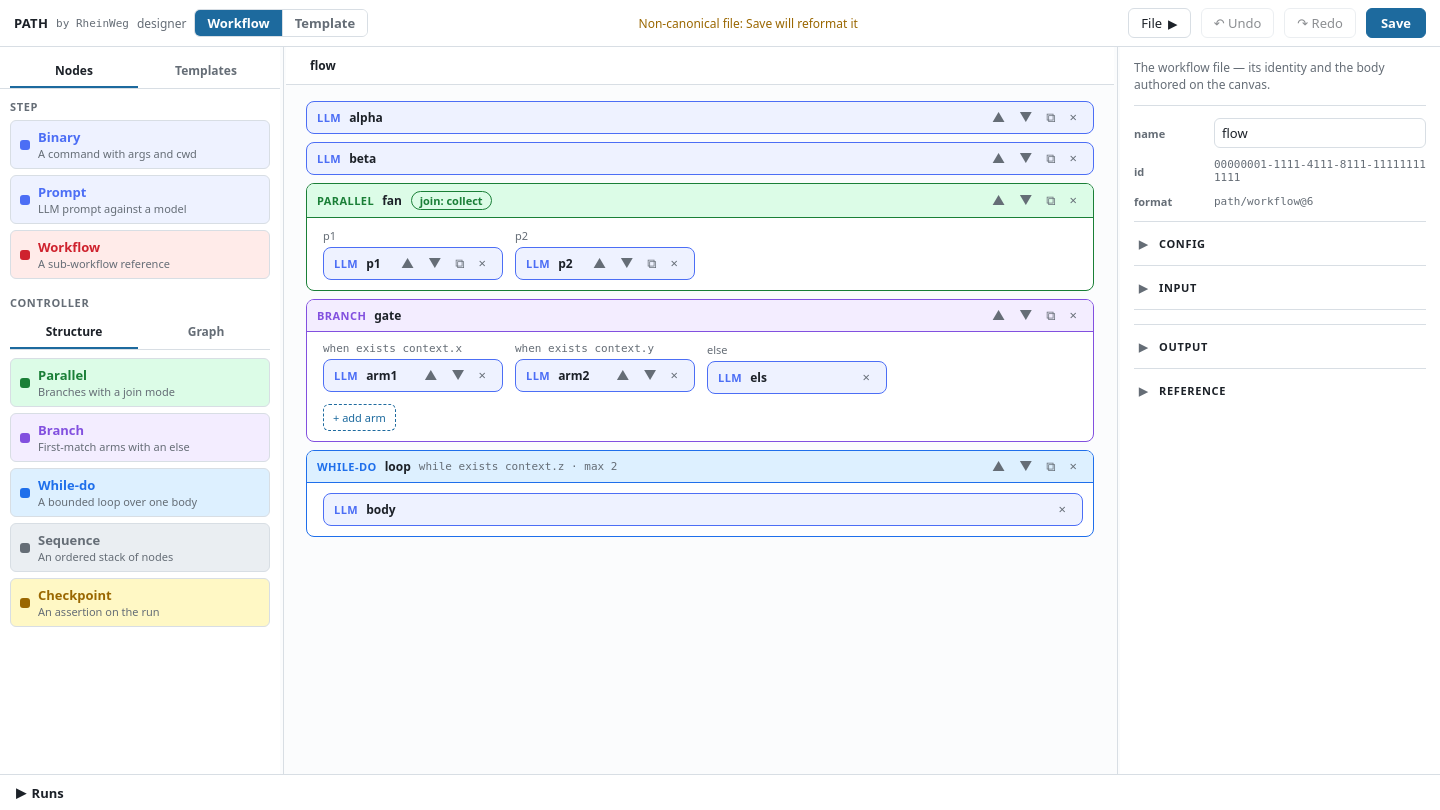
Test case: identity — a duplicate gets a fresh node › duplicates a top-level node in place
This screenshot has width=1440, height=810.
Expected: the text "alpha" is shown, [349,109,383,126]
Click the button named "Duplicate alpha". click: (1051, 118)
box: [1040,109,1062,126]
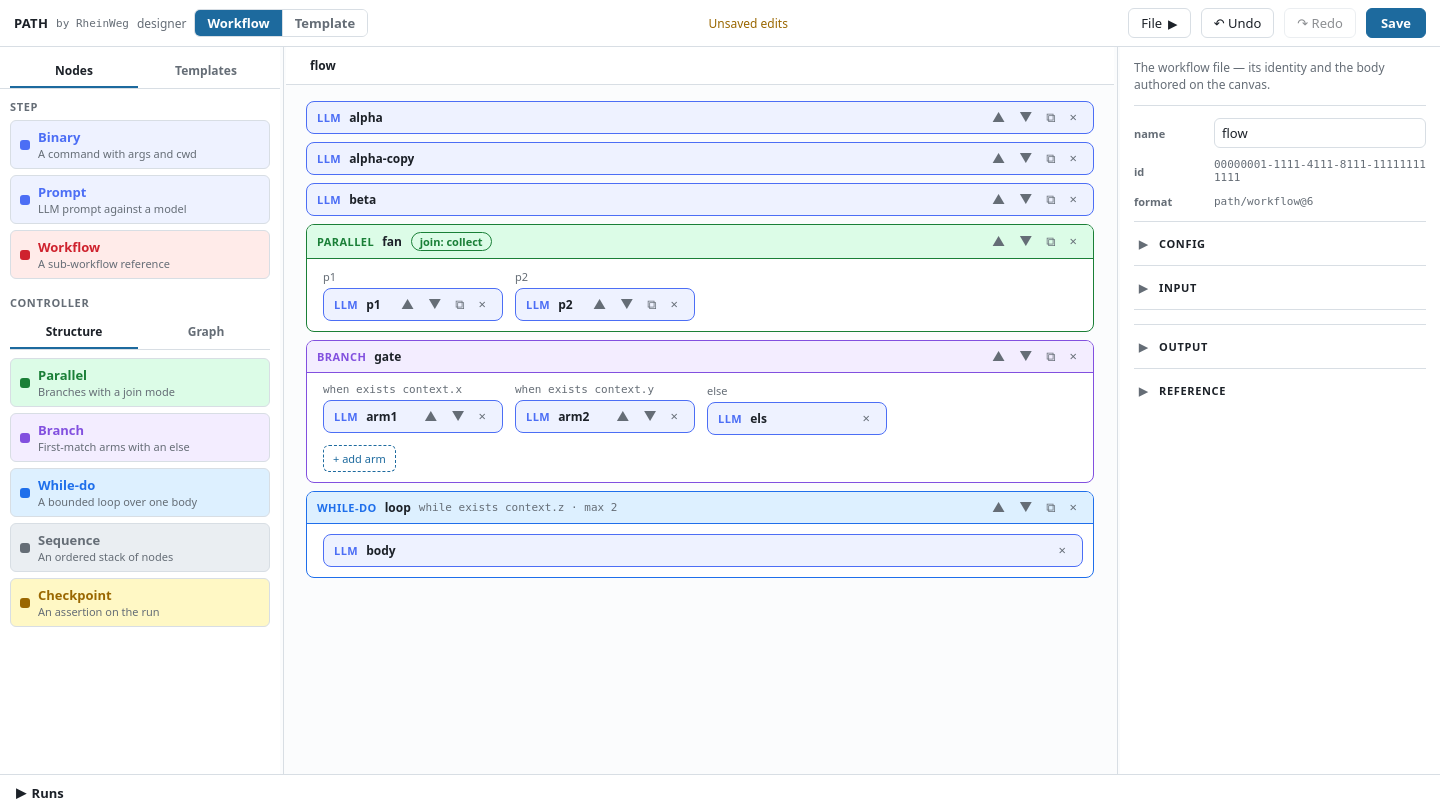
Result: the text "alpha-copy" is shown at [349,150,414,167]
